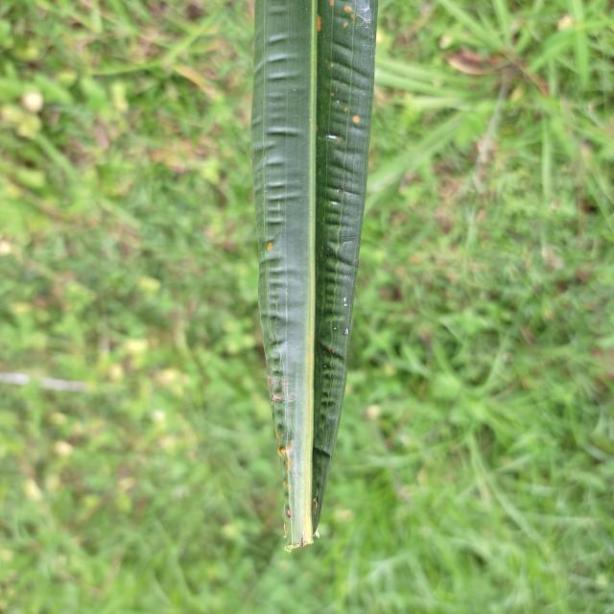Boron: (250, 0, 369, 556)
